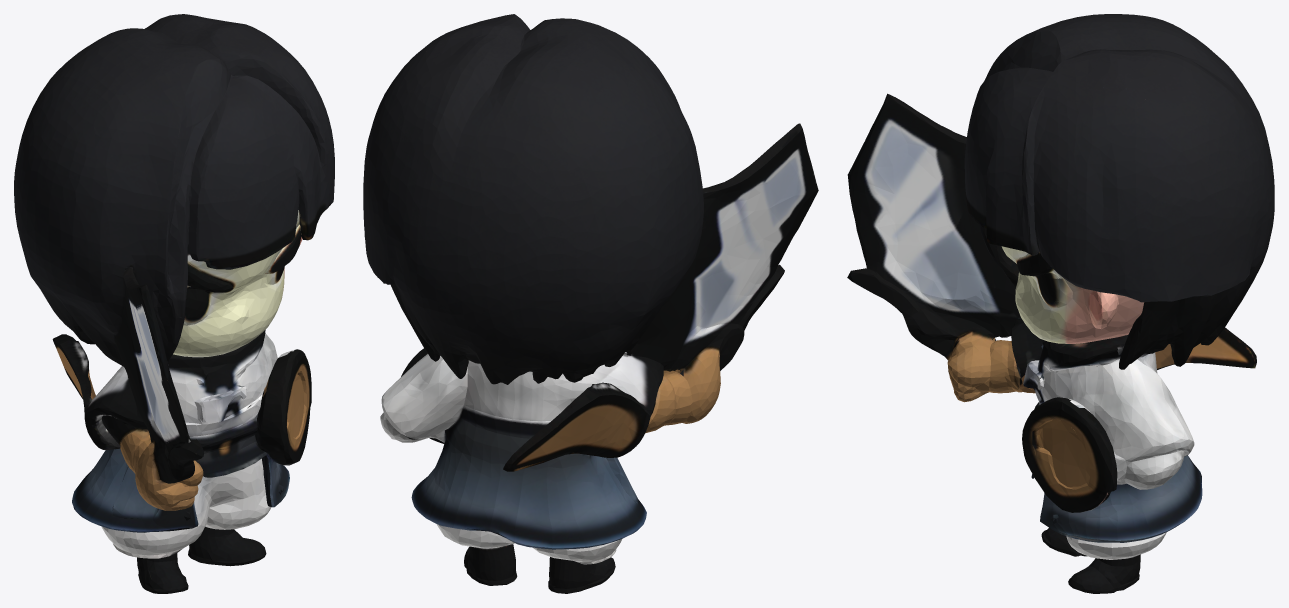
Rendered from person7.glb.
3 renders of one model, left to right at view 1: azimuth 30°, elevation 25°; view 2: azimuth 150°, elevation 25°; view 3: azimuth 270°, elevation 25°, orthographic. The views are drawn at different scales.
Parts seen in each view (by area): view 1: geometry_0; view 2: geometry_0; view 3: geometry_0.
Boxes of the visible parts, bbox=[...] form: geometry_0: bbox=[14, 14, 334, 593]; geometry_0: bbox=[363, 14, 818, 593]; geometry_0: bbox=[847, 14, 1274, 593].
Size of the model in its own units: 0.5764 by 0.9992 by 0.7324.
1 material, 1 textured.
